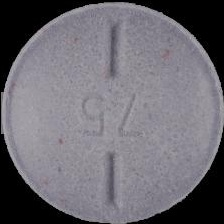53808-0958: (0, 0, 224, 224)
